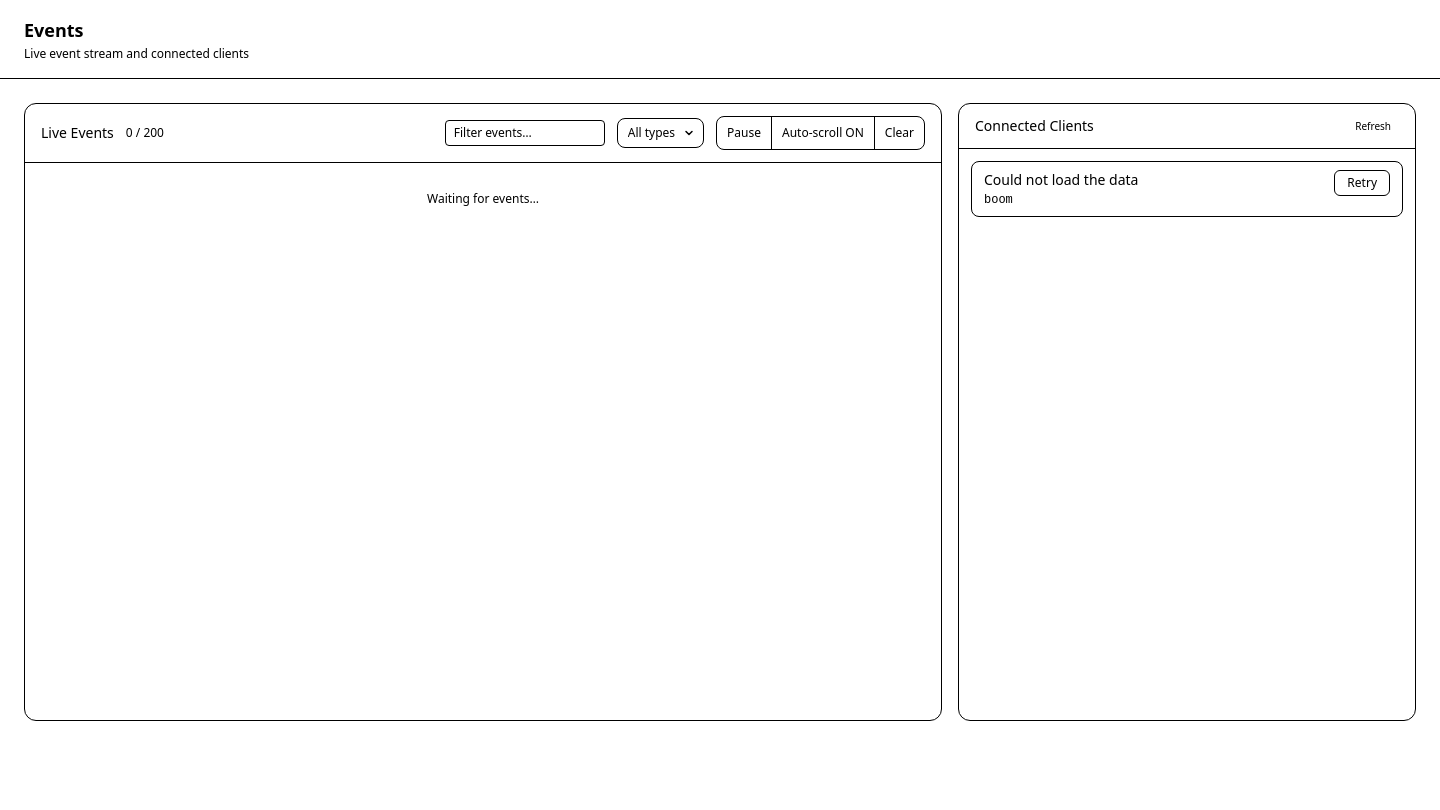
Test: EventsPage connected clients › shows a failed list with Retry instead of "no clients", and Retry loads it
Expected: the message shows "boom", [984,193,1013,207]
Click the button "Retry". click: (1362, 183)
box: [1334,170,1390,196]
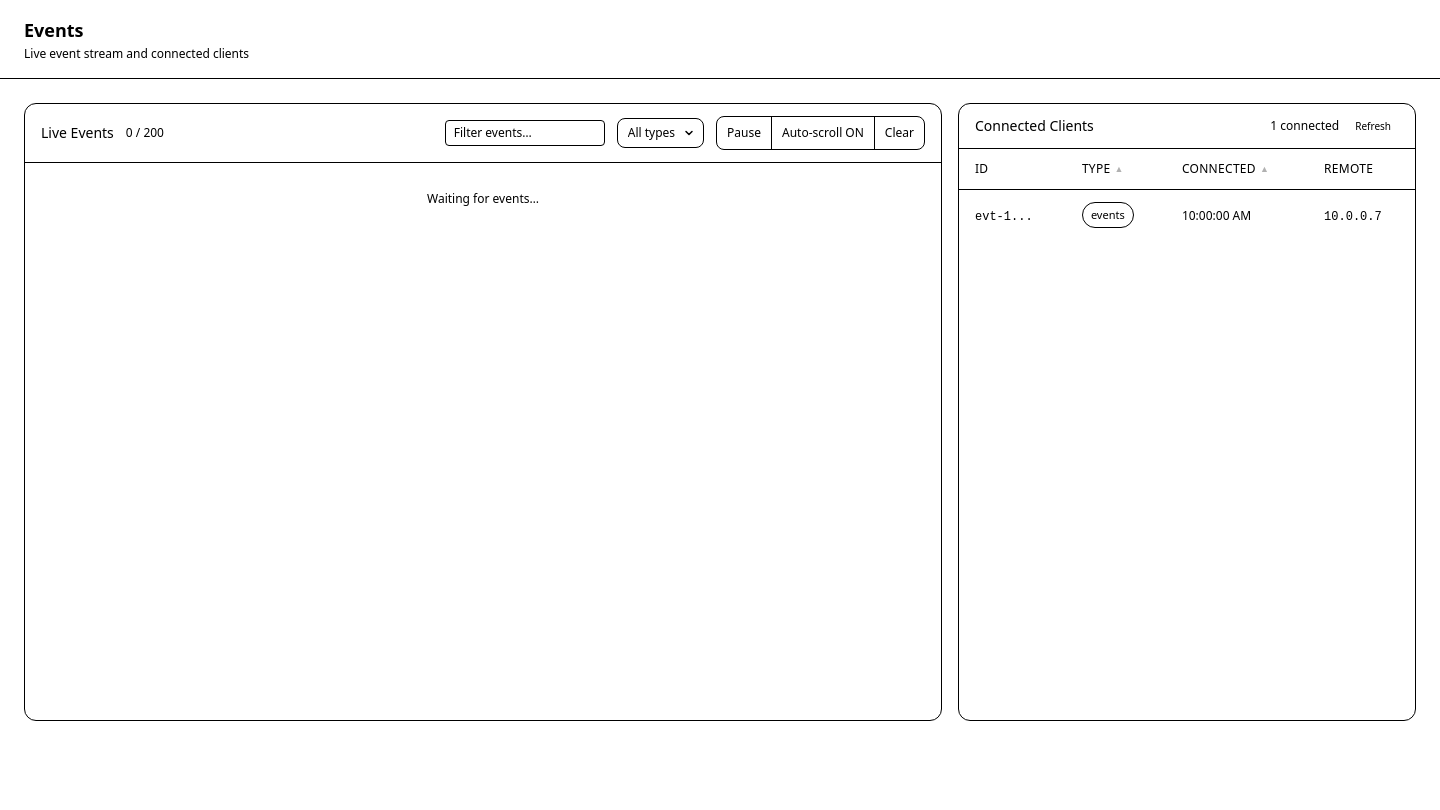
Result: the text "10.0.0.7" is shown at [1324,210,1382,224]
Result: the message "Could not load the data boom Retry" is gone
